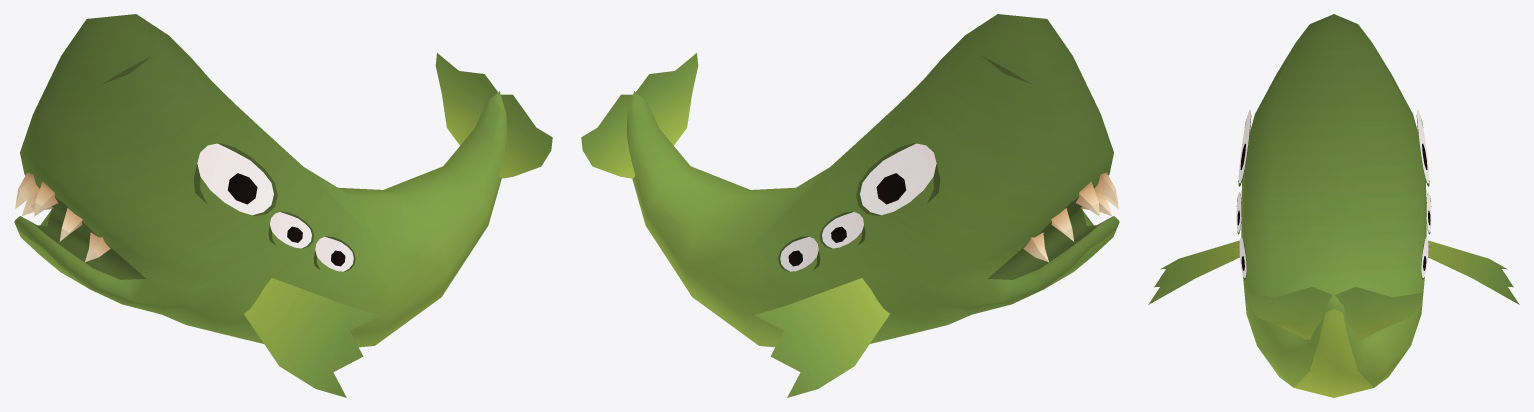
Rendered from baleine.glb.
The picture shows the model from 3 angles, left to right: view 1: azimuth 30°, elevation 25°; view 2: azimuth 150°, elevation 25°; view 3: azimuth 270°, elevation 25°; orthographic projection. The views are drawn at different scales.
Visible parts, largest first — view 1: Cube.006, Plane.009; view 2: Cube.006, Plane.009; view 3: Cube.006, Plane.009.
Boxes of the visible parts, x1,y1,x2,y2 form: Cube.006: [14, 14, 507, 397]; Plane.009: [435, 53, 552, 178]; Cube.006: [626, 14, 1119, 397]; Plane.009: [581, 53, 698, 178]; Cube.006: [1148, 14, 1519, 397]; Plane.009: [1245, 287, 1422, 339].
Size of the model in its own units: 1.17 by 0.8734 by 1.03.
1 material, 1 textured.
